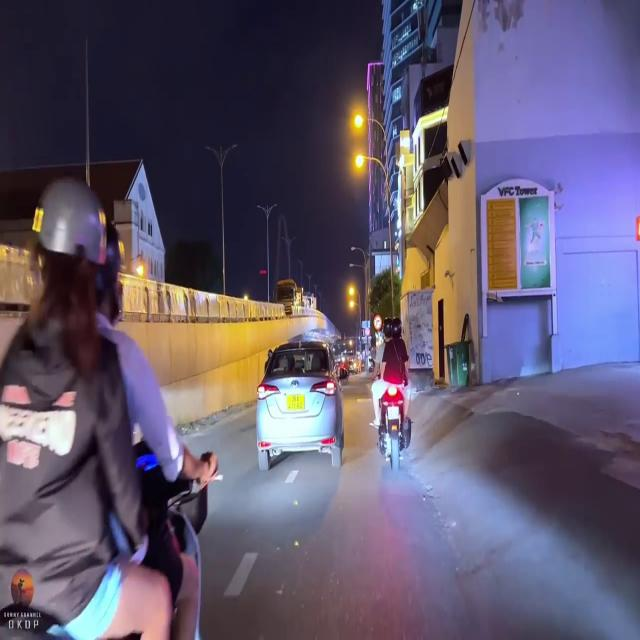bien_trang: (285, 395, 309, 414)
